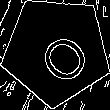O_NW: (24, 17, 89, 84)
